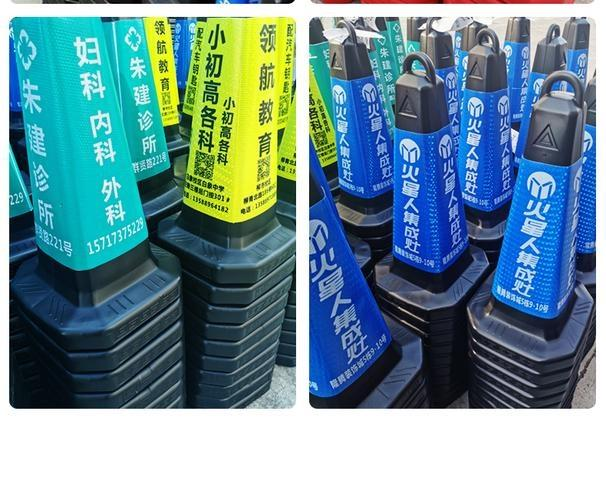cone_barrel: (13, 14, 151, 310), (481, 76, 588, 344), (171, 17, 282, 253), (308, 131, 399, 404), (383, 58, 474, 295), (326, 27, 393, 215), (457, 30, 515, 231)
